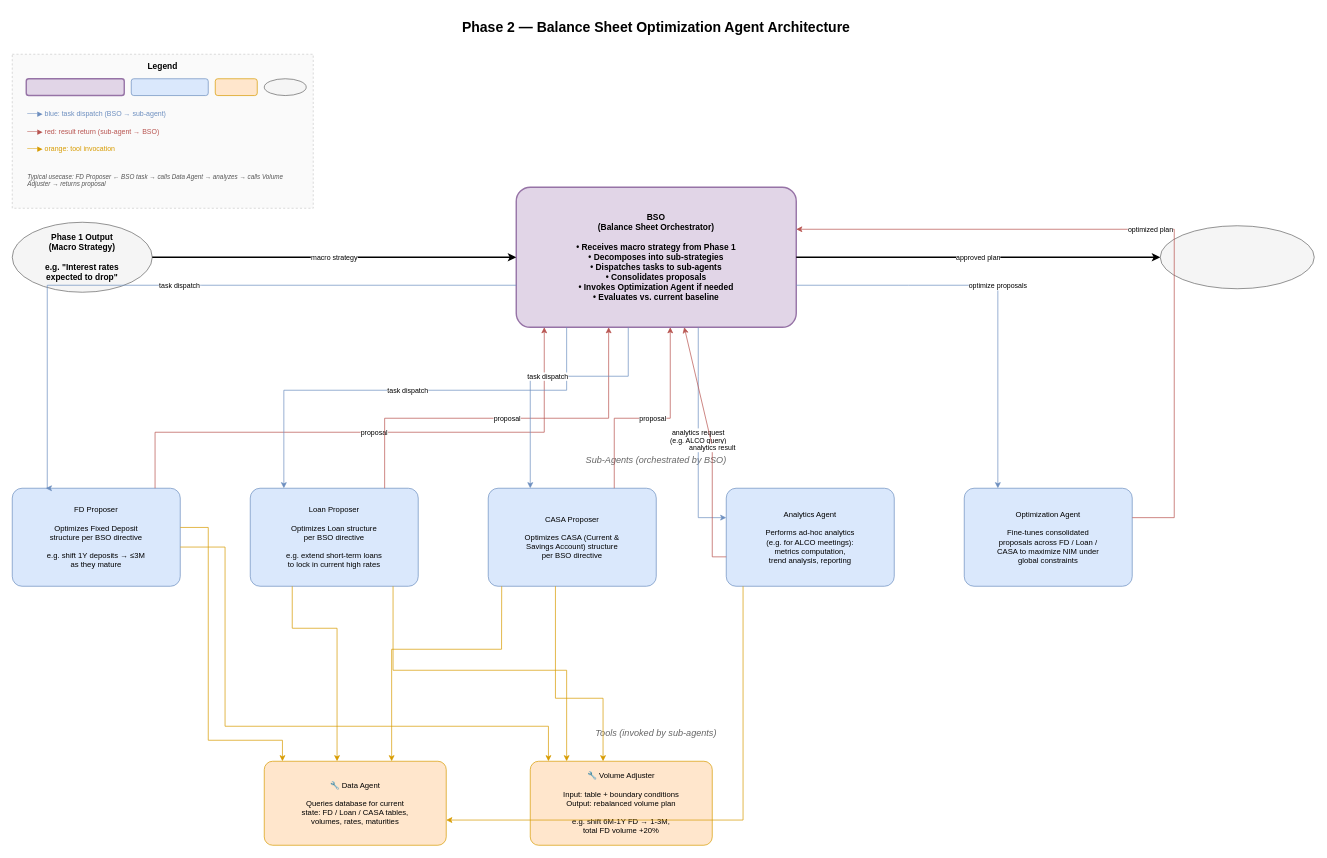
Some shapes in this 1327 by 858 pixel diagram are drawn without their labels. The centre of each missing label's shape, as x and y in pixels:
"Approved Balance Sheet Adjustment Plan" goes at [1237,257].
"Input / Output" goes at [285,87].
"Orchestrator (BSO)" goes at [75,87].
"Sub-Agent" goes at [169,87].
"Tool" goes at [236,87].
